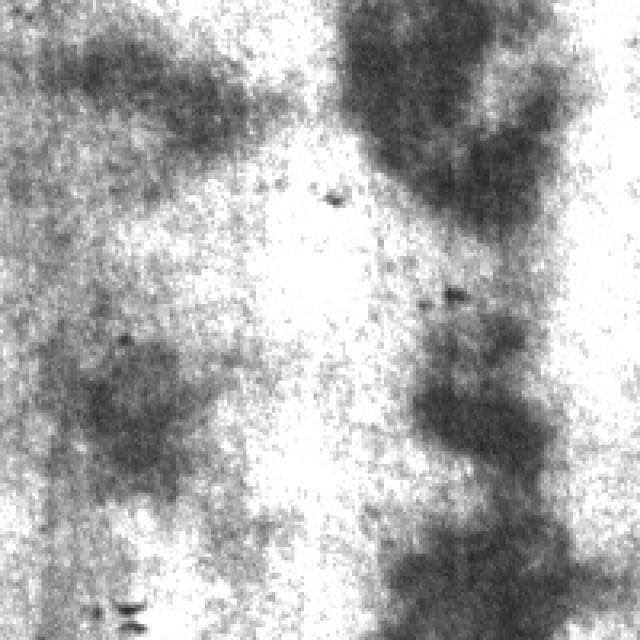patches: (336, 0, 576, 240), (374, 474, 612, 636), (413, 278, 557, 516), (61, 29, 288, 166), (45, 320, 198, 502)
